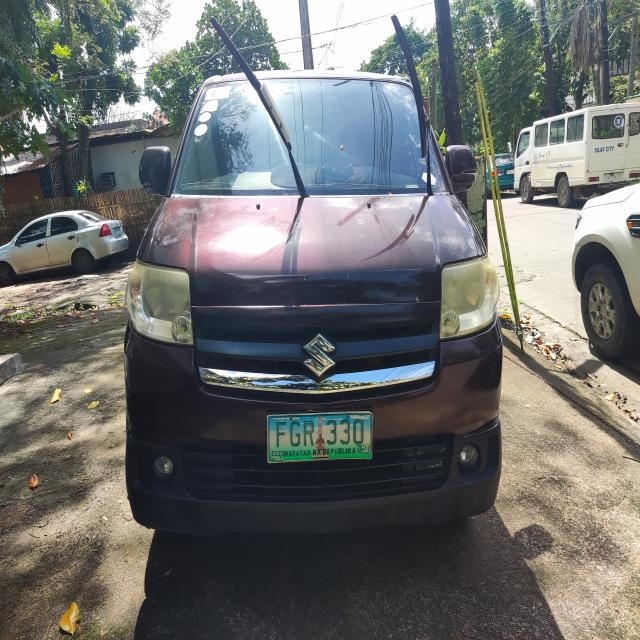plate: (266, 410, 374, 464)
